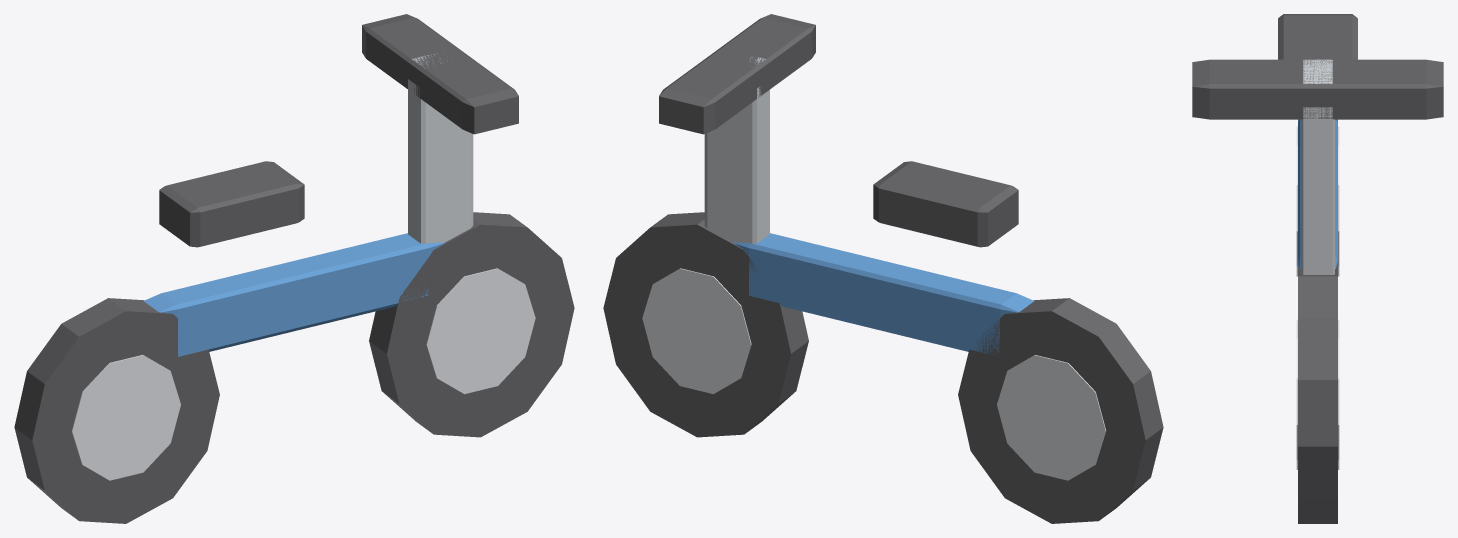
File: b03_small_wheel_folding_bicycle.glb
3 renders of one model, left to right at view 1: azimuth 30°, elevation 25°; view 2: azimuth 150°, elevation 25°; view 3: azimuth 270°, elevation 25°, orthographic. The views are drawn at different scales.
Parts seen in each view (by area): view 1: b03_small_wheel_folding_bicycle; view 2: b03_small_wheel_folding_bicycle; view 3: b03_small_wheel_folding_bicycle.
Part boxes in pixels (x1=…): b03_small_wheel_folding_bicycle: x1=14, y1=14, x2=574, y2=523; b03_small_wheel_folding_bicycle: x1=603, y1=14, x2=1163, y2=523; b03_small_wheel_folding_bicycle: x1=1192, y1=14, x2=1443, y2=523.
Bounding box in the file's own units: 1.59 × 1.06 × 0.57.
